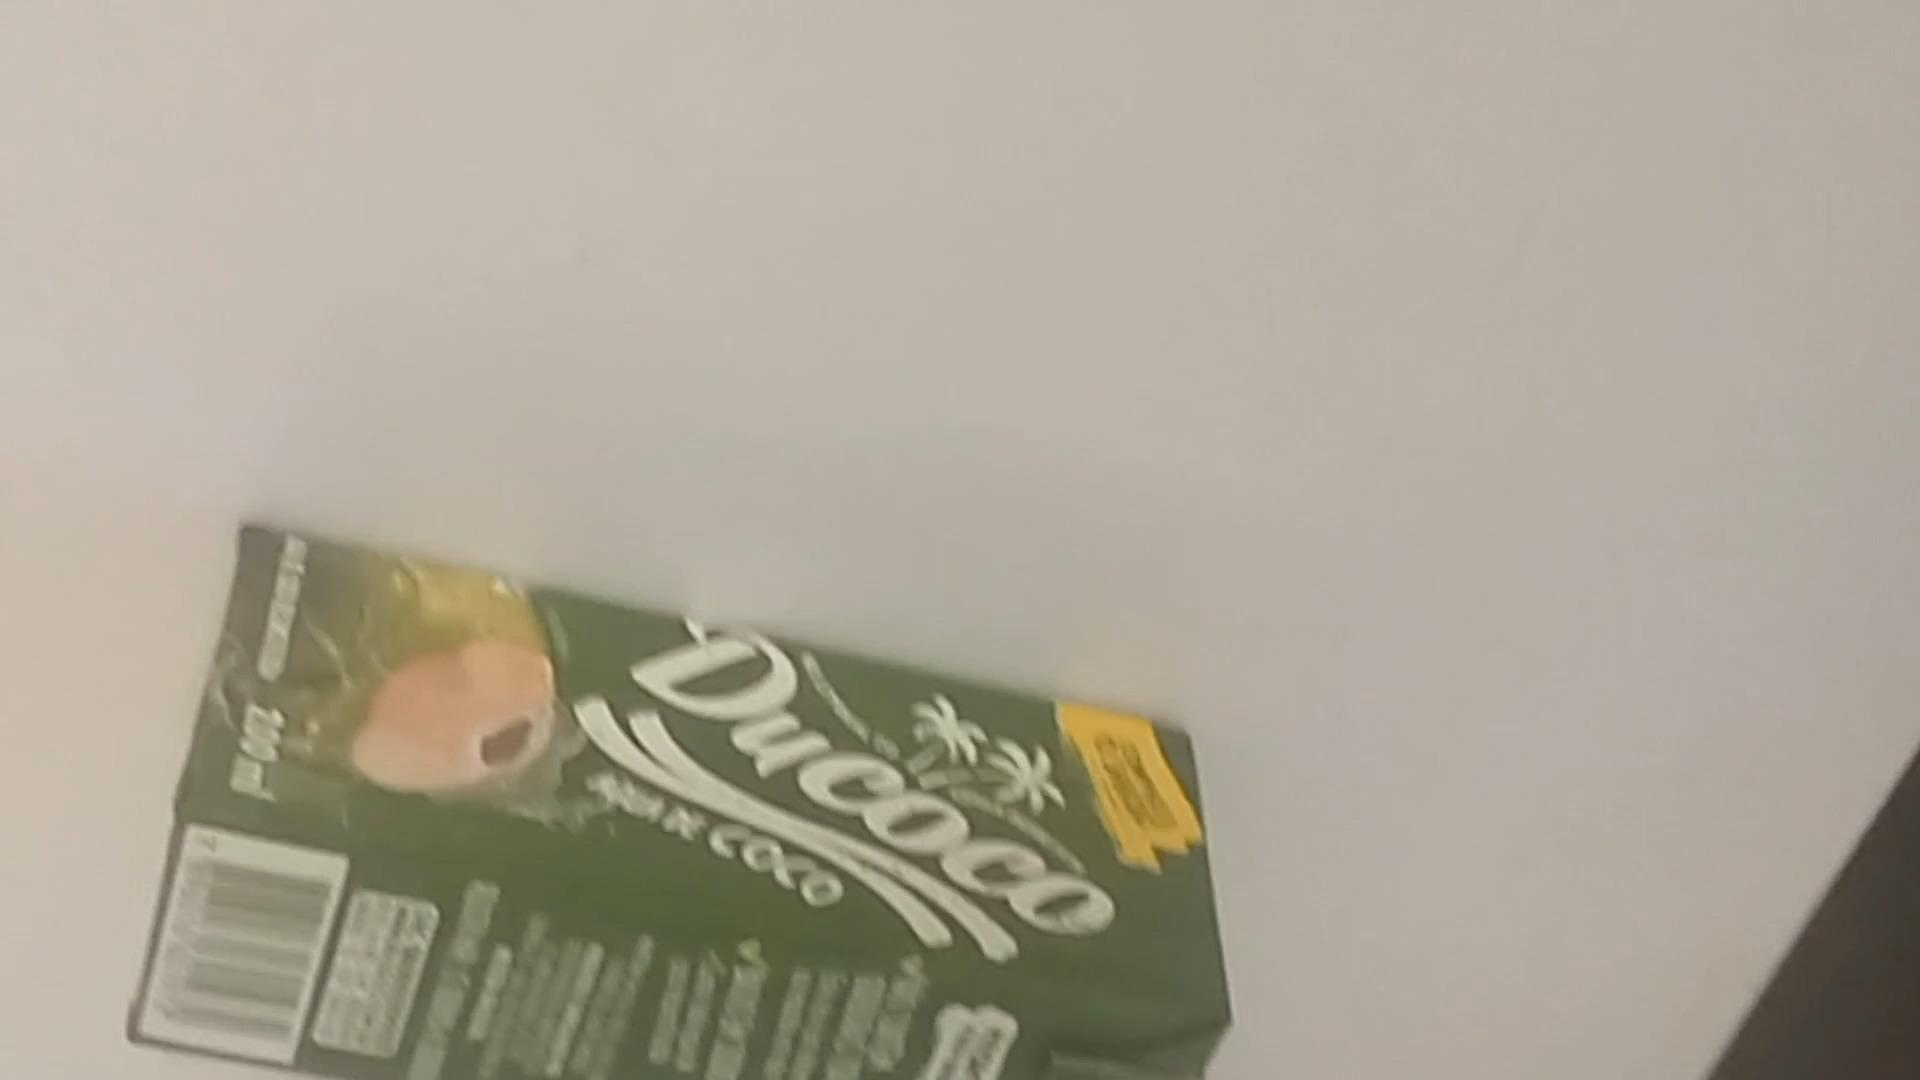coco: (131, 510, 1230, 1080)
